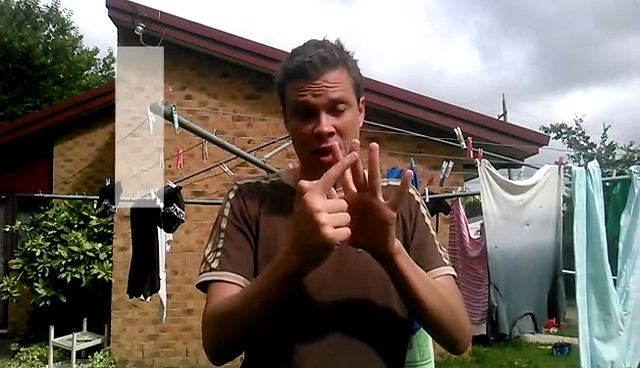I: (282, 133, 422, 273)
